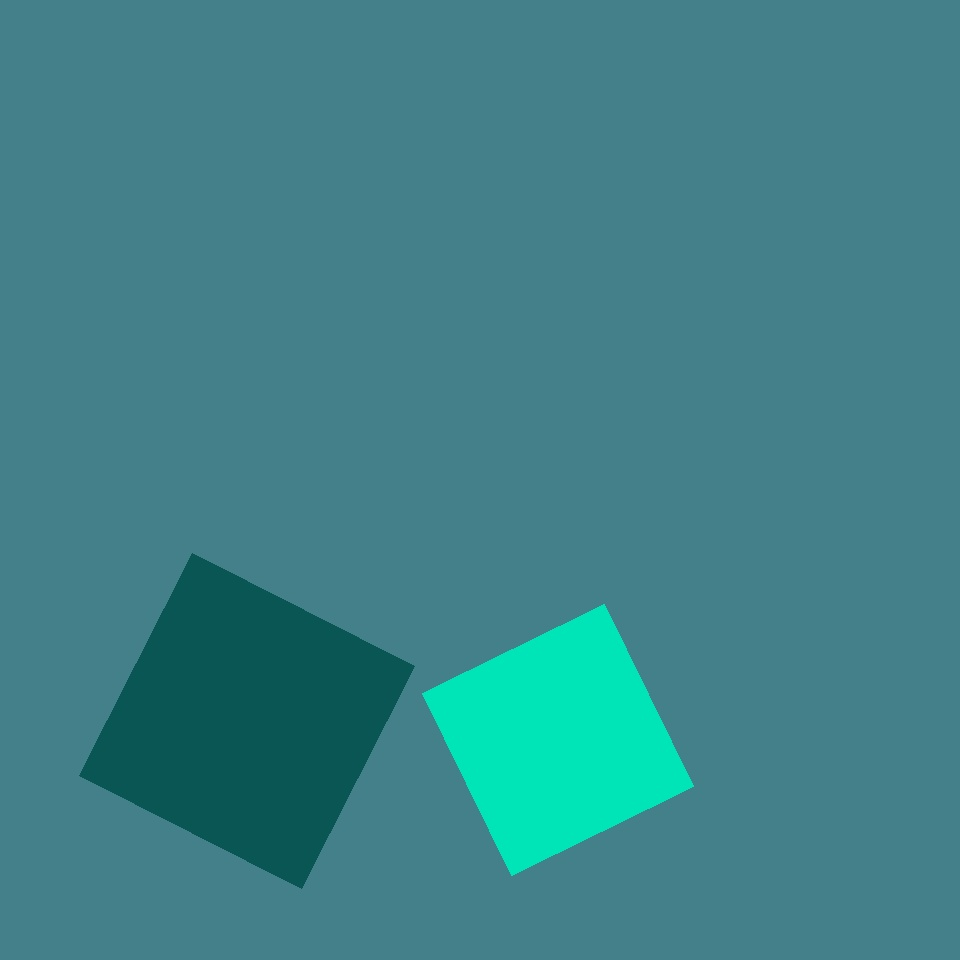circle: (132, 288, 352, 526)
square: (79, 554, 414, 888), (423, 605, 694, 876), (458, 222, 709, 473), (684, 235, 779, 329)
triangle: (64, 151, 354, 441), (332, 589, 609, 866), (135, 55, 287, 206)
